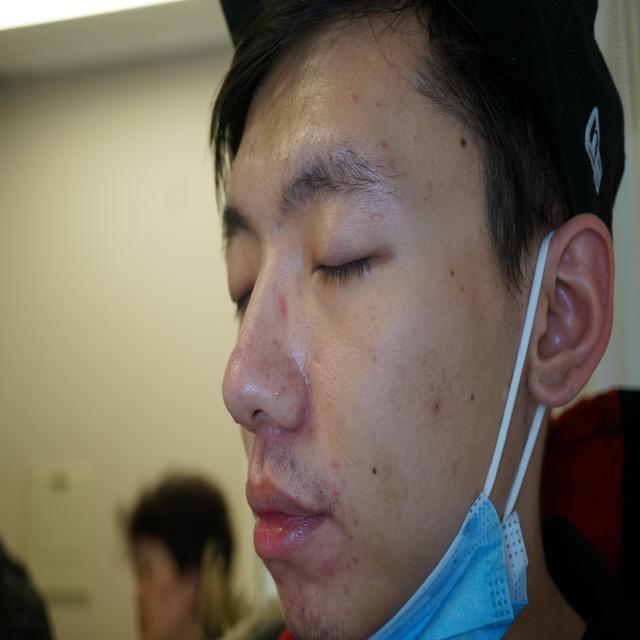acne: (296, 594, 314, 625), (278, 295, 294, 326), (426, 391, 447, 413), (312, 607, 327, 635), (324, 553, 336, 581), (286, 591, 298, 619), (340, 599, 355, 620)
